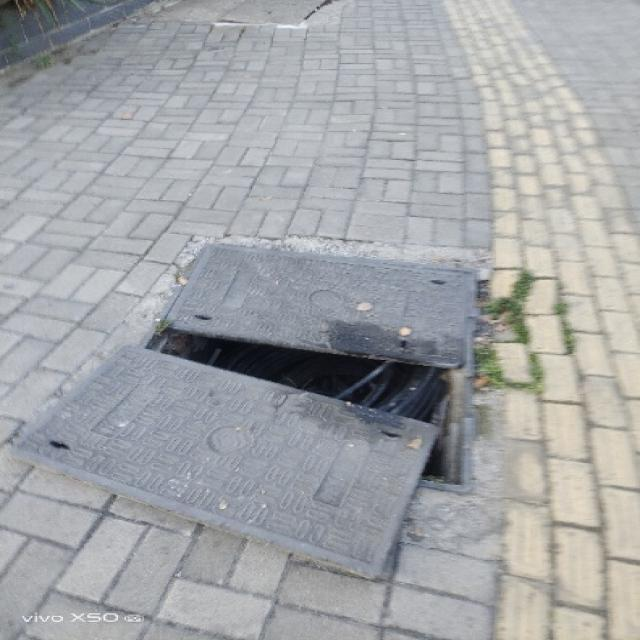Faulty: (36, 176, 510, 536)
